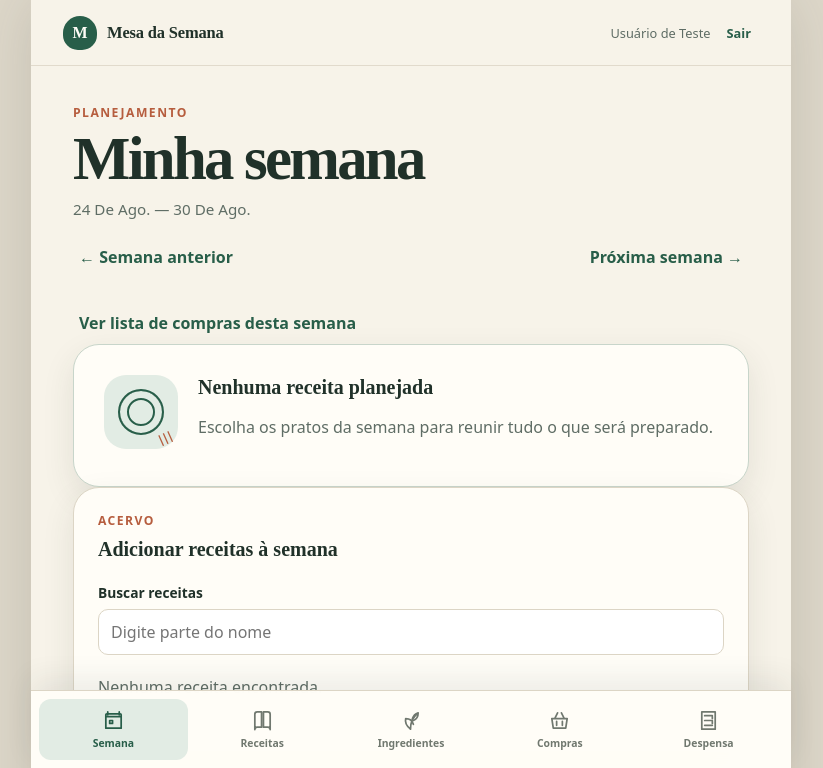
fundação mobile do planejador › navega entre as quatro áreas principais
The image size is (823, 768).
Expected: the link "Semana" is shown, [39,699,188,760]
Expected: the link "Compras" is shown, [537,709,583,750]
Click the link "Receitas": (262, 730) [240,709,284,750]
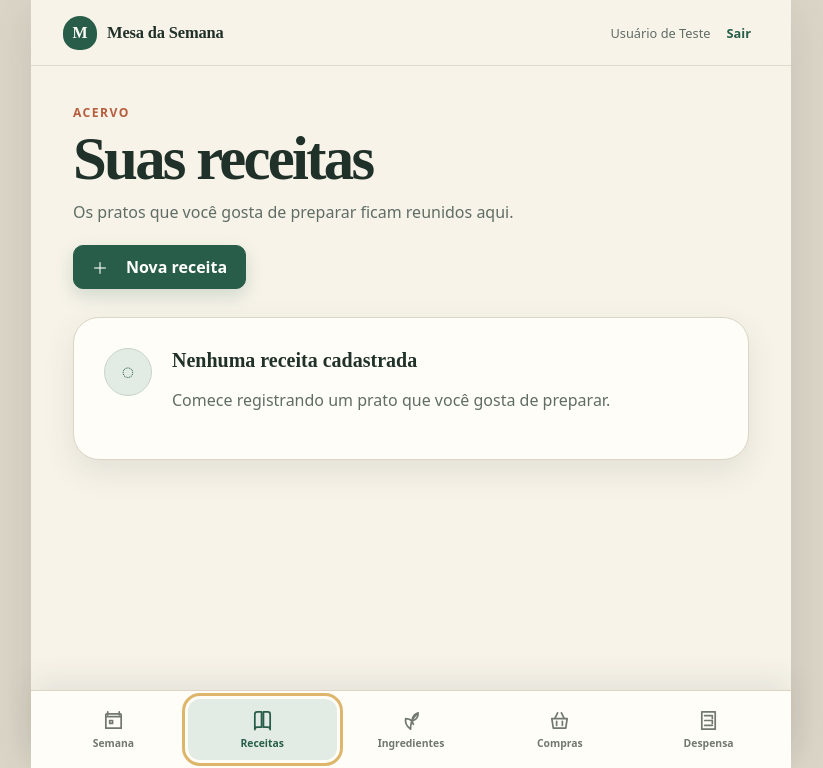
Expected: the heading "Suas receitas" is shown, [73,125,372,192]
